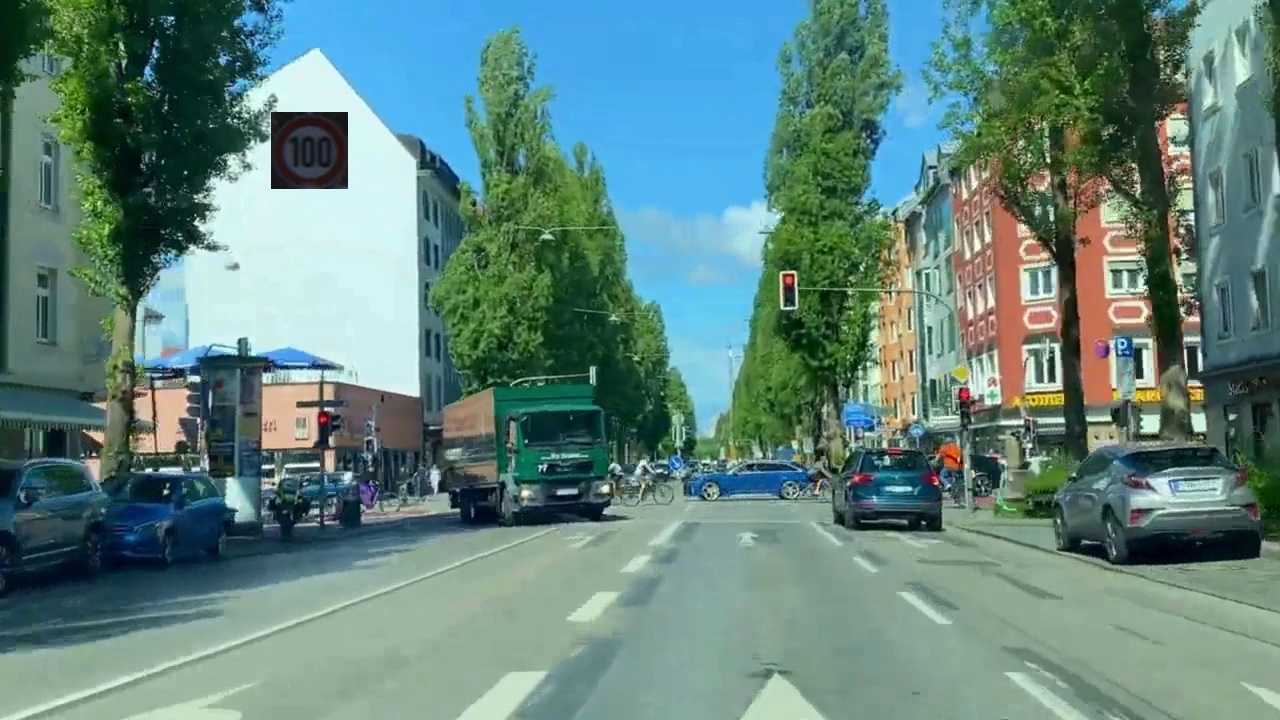Speed 100: (271, 112, 348, 189)
